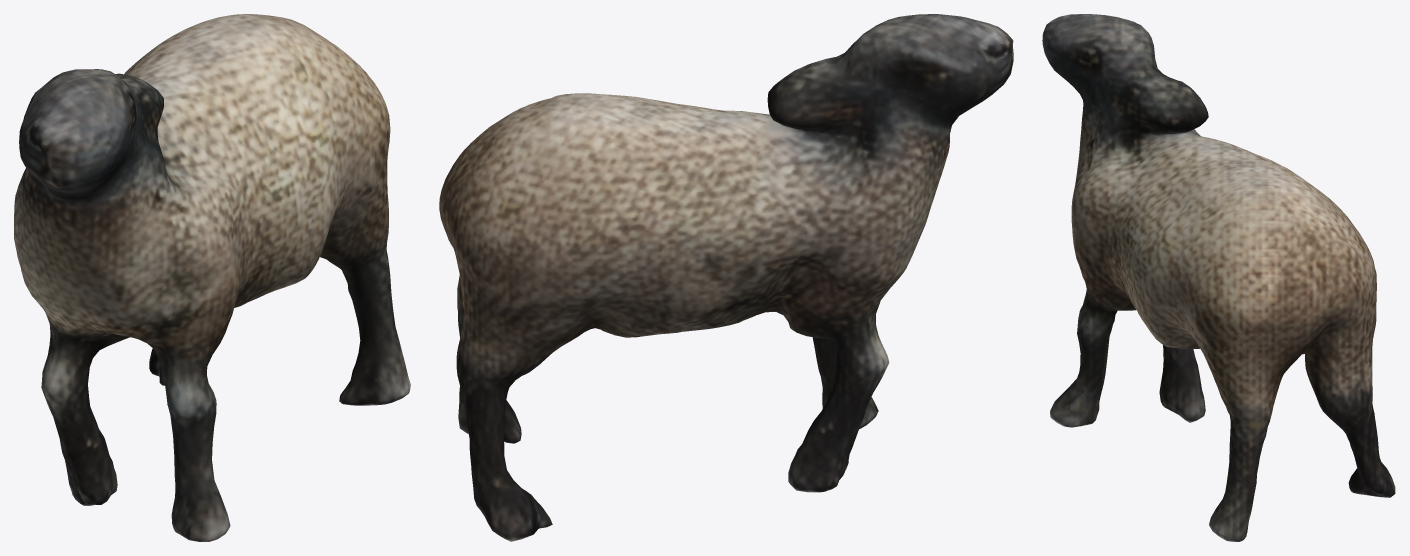
Rendered from bebe.glb.
The picture shows the model from 3 angles, left to right: view 1: azimuth 30°, elevation 25°; view 2: azimuth 150°, elevation 25°; view 3: azimuth 270°, elevation 25°; orthographic projection. The views are drawn at different scales.
Parts seen in each view (by area): view 1: mesh; view 2: mesh; view 3: mesh.
Boxes of the visible parts, x1,y1,x2,y2 form: mesh: [14, 14, 410, 541]; mesh: [439, 14, 1013, 541]; mesh: [1042, 14, 1395, 541].
Size of the model in its own units: 1.34 by 1.29 by 1.1.
Materials: 1 (1 with a texture image).
